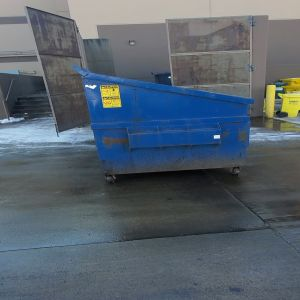Dumpster: (84, 74, 256, 183)
